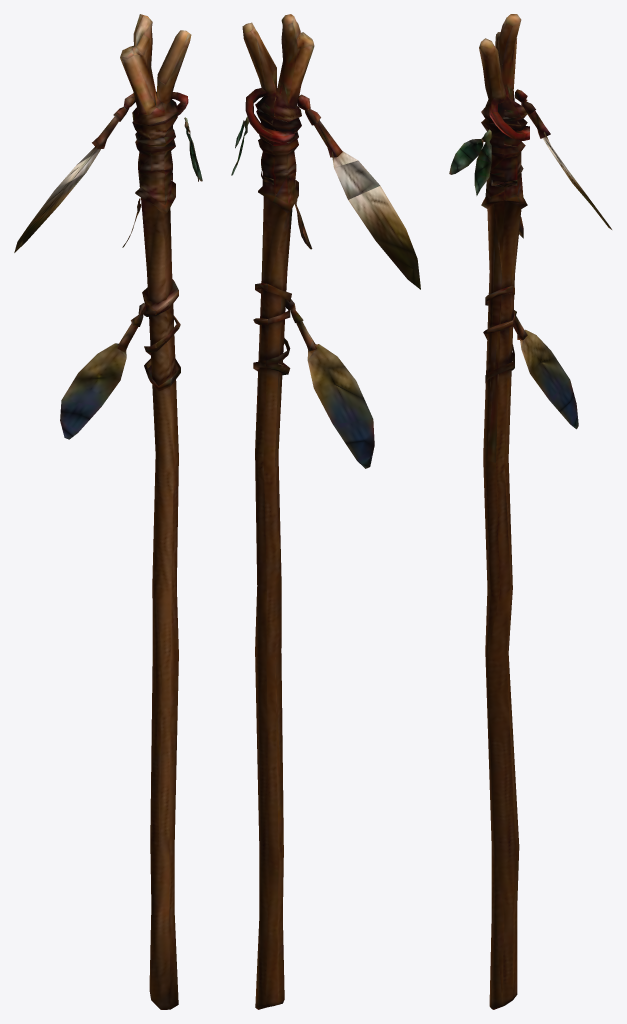
Rendered from ShamanStaff.glb.
3 views of the same model, side by side, from view 1: azimuth 30°, elevation 25°; view 2: azimuth 210°, elevation 25°; view 3: azimuth 270°, elevation 25° (orthographic).
Visible parts, largest first — view 1: tripo_node_df347de8-2750-472e-8bf7-e7cd00739edc; view 2: tripo_node_df347de8-2750-472e-8bf7-e7cd00739edc; view 3: tripo_node_df347de8-2750-472e-8bf7-e7cd00739edc.
Part boxes in pixels (x1,y1,x2,y2): tripo_node_df347de8-2750-472e-8bf7-e7cd00739edc: [14, 14, 202, 1009]; tripo_node_df347de8-2750-472e-8bf7-e7cd00739edc: [231, 14, 420, 1009]; tripo_node_df347de8-2750-472e-8bf7-e7cd00739edc: [449, 14, 611, 1009].
Size of the model in its own units: 0.1348 by 0.998 by 0.1504.
1 material, 1 textured.
